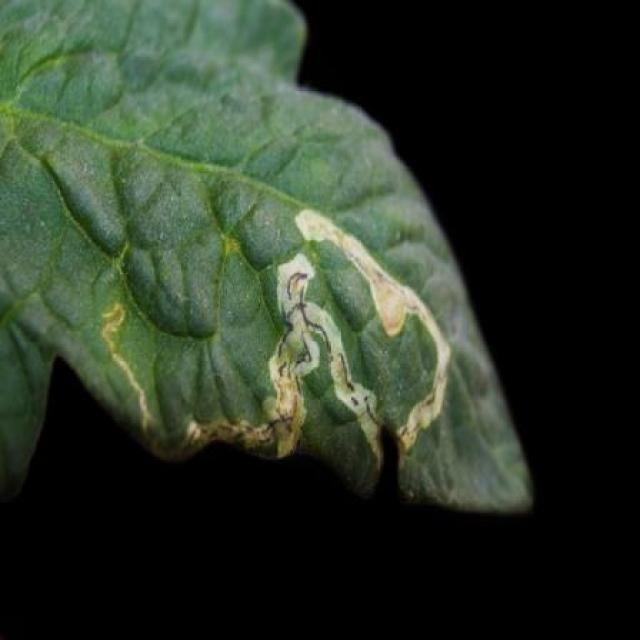Leaf Miner: (0, 0, 534, 515)
